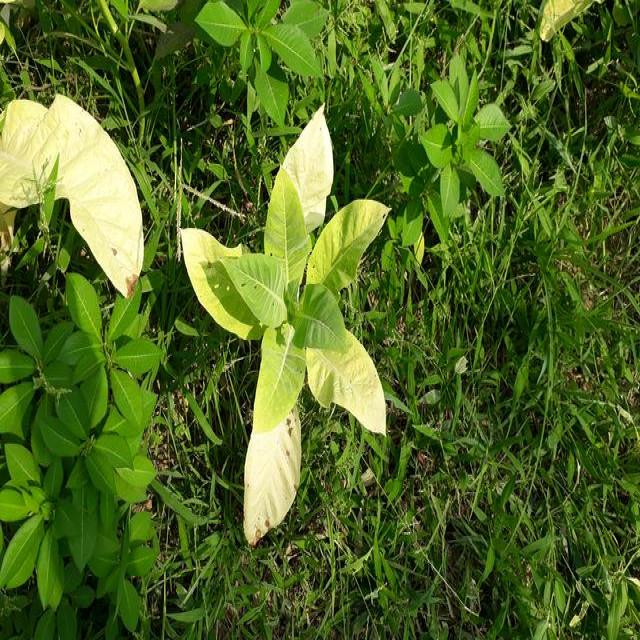crop: (175, 106, 392, 525), (0, 98, 146, 296)
